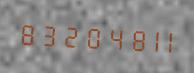eight: (17, 15, 36, 49), (117, 21, 136, 55)
four: (97, 20, 116, 53)
one: (137, 22, 156, 56), (157, 23, 176, 57)
three: (37, 16, 56, 50)
two: (57, 17, 76, 51)
zero: (77, 18, 96, 52)
